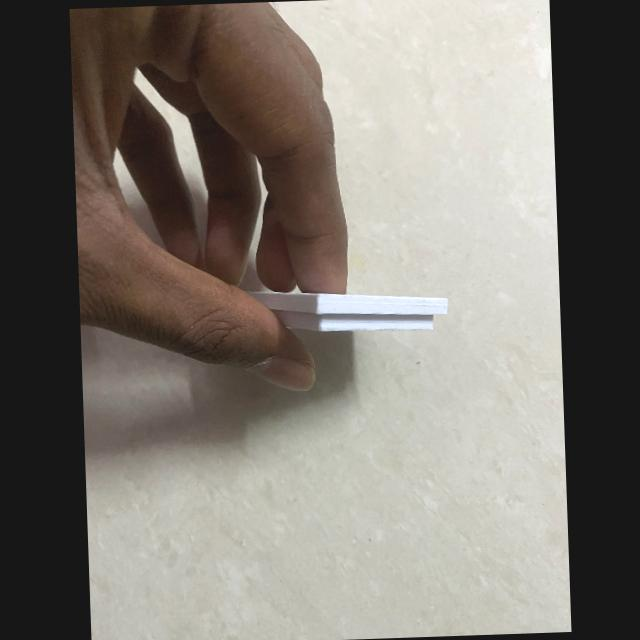RASPBERY PI CAM ENCLOSURE: (243, 282, 448, 336)
